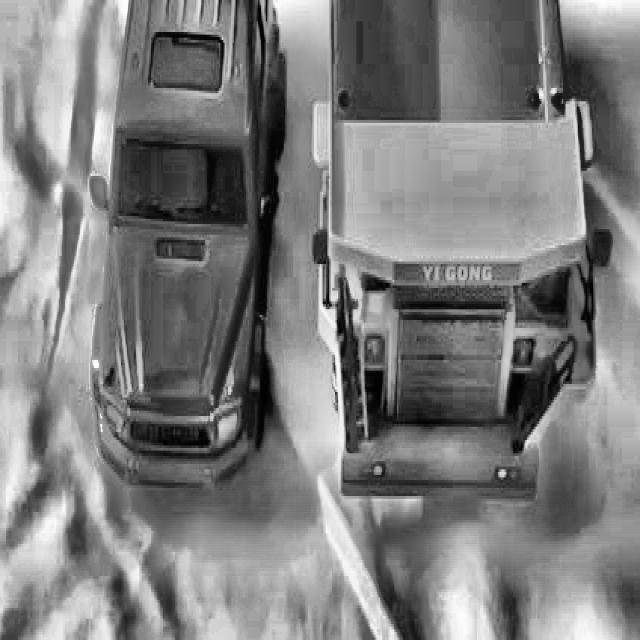dump_truck: (312, 0, 591, 517)
light_vehicle: (85, 0, 276, 483)
